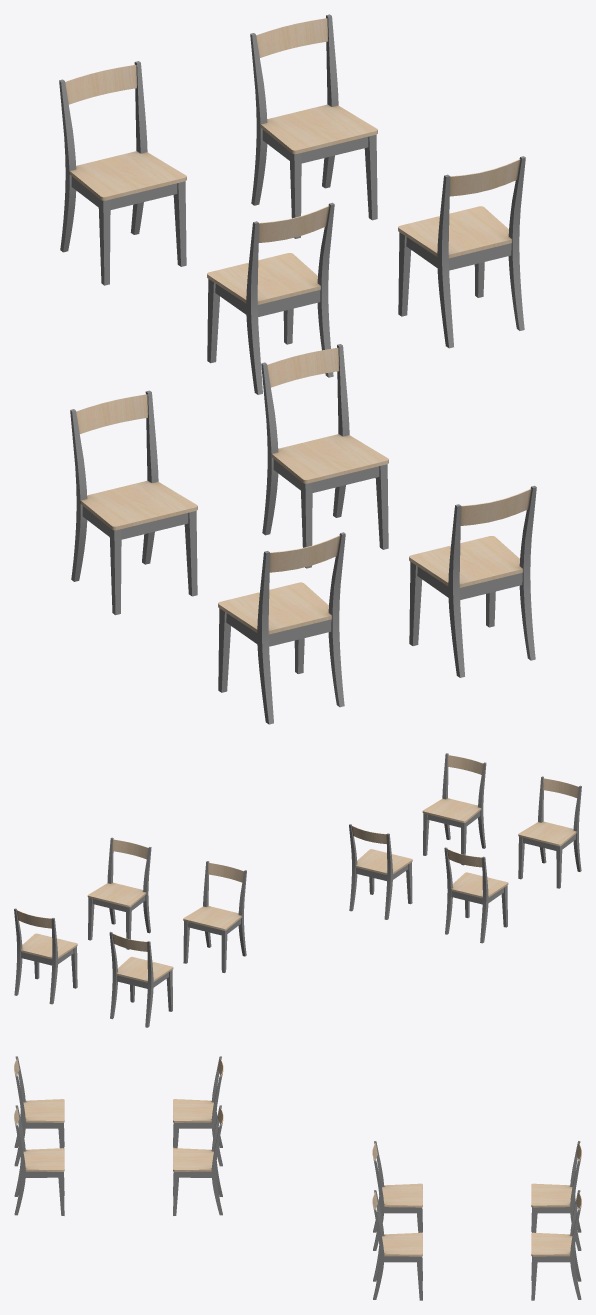
File: Chair.FBX
The picture shows the model from 3 angles, top to bottom: view 1: azimuth 30°, elevation 25°; view 2: azimuth 150°, elevation 25°; view 3: azimuth 270°, elevation 25°; orthographic projection. The views are drawn at different scales.
Visible parts, largest first — view 1: chair001, chair007, chair006, chair, chair005, chair002, chair004, chair003; view 2: chair005, chair003, chair002, chair004, chair, chair006, chair001, chair007; view 3: chair, chair004, chair002, chair006, chair001, chair005, chair007, chair003.
Part boxes in pixels (x1,y1,x2,y2): chair001: [59, 61, 186, 285]; chair007: [70, 390, 197, 615]; chair006: [261, 344, 388, 568]; chair: [250, 14, 377, 238]; chair005: [218, 532, 345, 724]; chair002: [398, 156, 525, 348]; chair004: [409, 485, 536, 677]; chair003: [207, 202, 334, 394]; chair005: [518, 776, 581, 888]; chair003: [183, 861, 246, 972]; chair002: [87, 837, 151, 949]; chair004: [422, 753, 486, 865]; chair: [14, 908, 77, 1004]; chair006: [349, 824, 412, 919]; chair001: [109, 931, 173, 1027]; chair007: [444, 847, 508, 943]; chair: [531, 1190, 581, 1300]; chair004: [14, 1105, 64, 1215]; chair002: [372, 1190, 422, 1300]; chair006: [173, 1105, 223, 1215]; chair001: [531, 1141, 581, 1250]; chair005: [14, 1056, 64, 1166]; chair007: [173, 1056, 223, 1166]; chair003: [372, 1141, 422, 1250].
Size of the model in its own units: 331 by 89.32 by 511.
